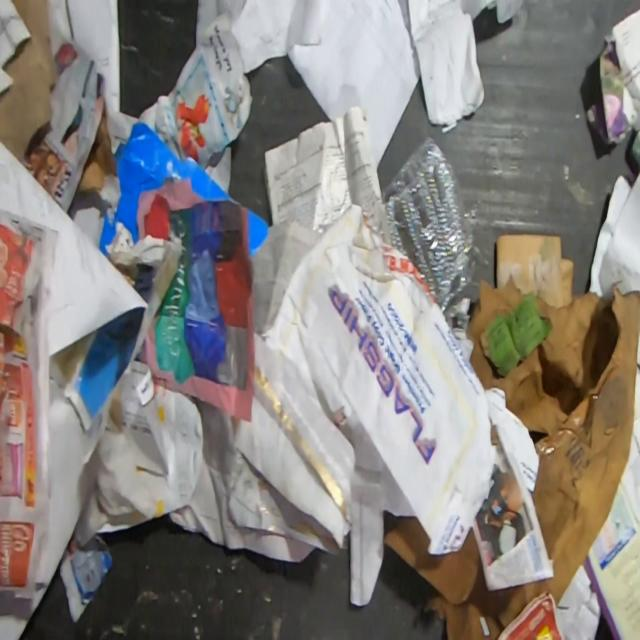cardboard: (382, 272, 640, 640), (98, 119, 270, 260), (495, 233, 574, 308), (76, 98, 114, 192)
rigid_plastic: (361, 136, 477, 307)
